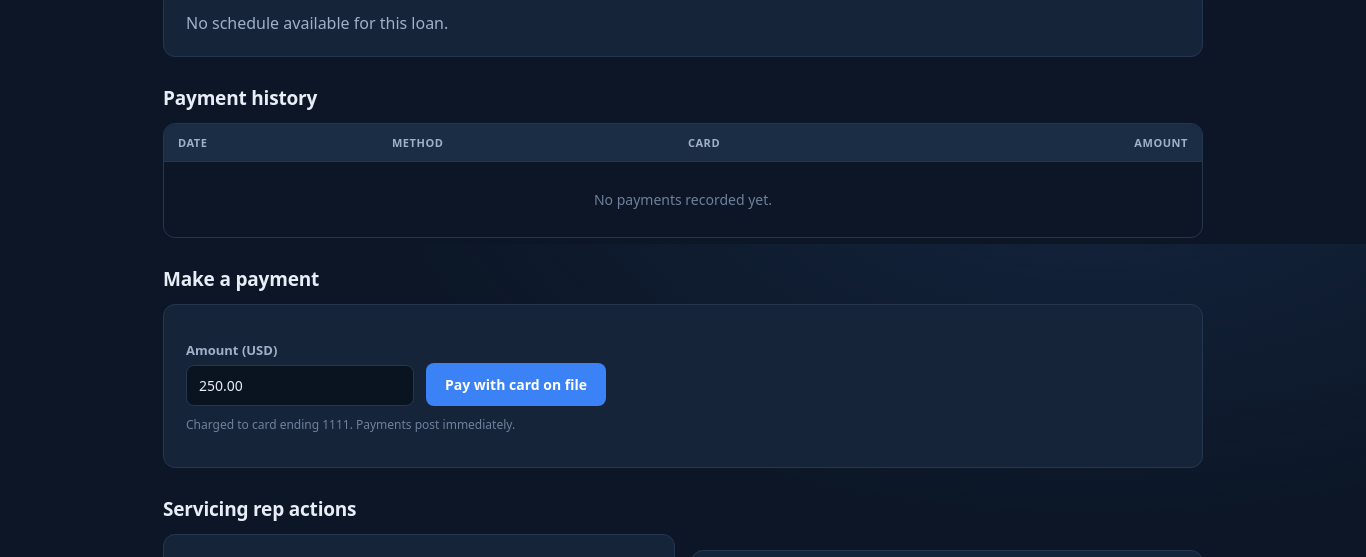
Test: loan detail — payment idempotency (D19) › retries with the exact same Idempotency-Key and body, not a fresh one
The image size is (1366, 557).
(page scrolled)
What coordinates should you click on to do the following:
click the button "Pay with card on file"
I would click on:
 (516, 384)
Its box is [426,362,606,406].
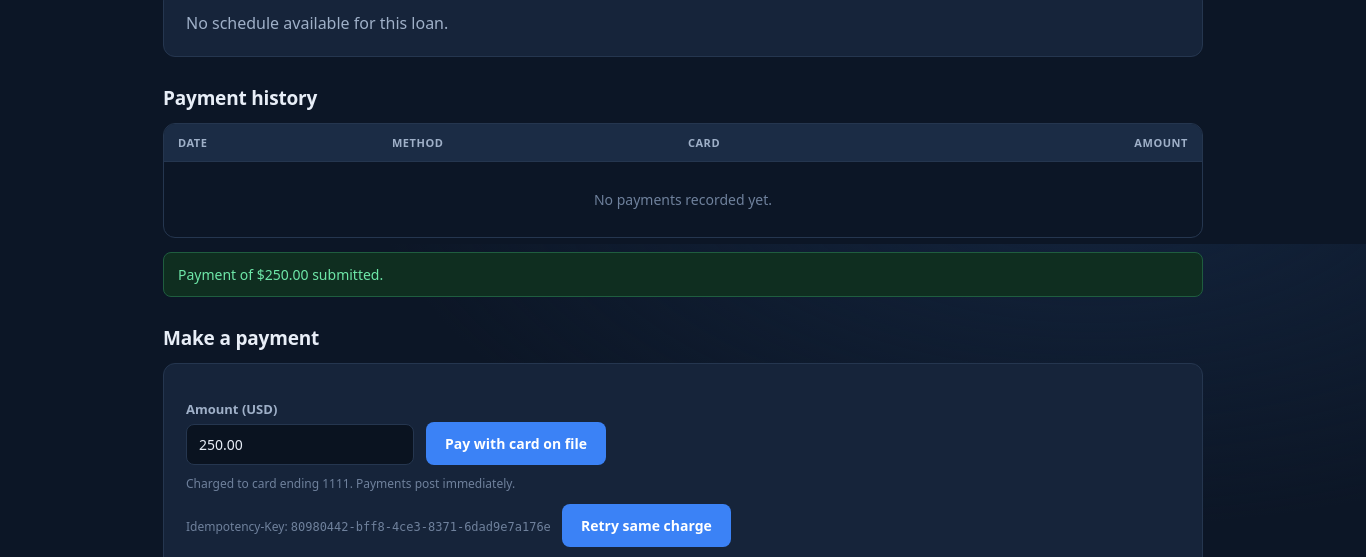
Result: the text "Payment of $250.00 submitted." is shown at [163,252,1203,296]
What coordinates should you click on to do the following:
click the button "Retry same charge"
I would click on:
 (646, 525)
Its box is [562,504,731,546].
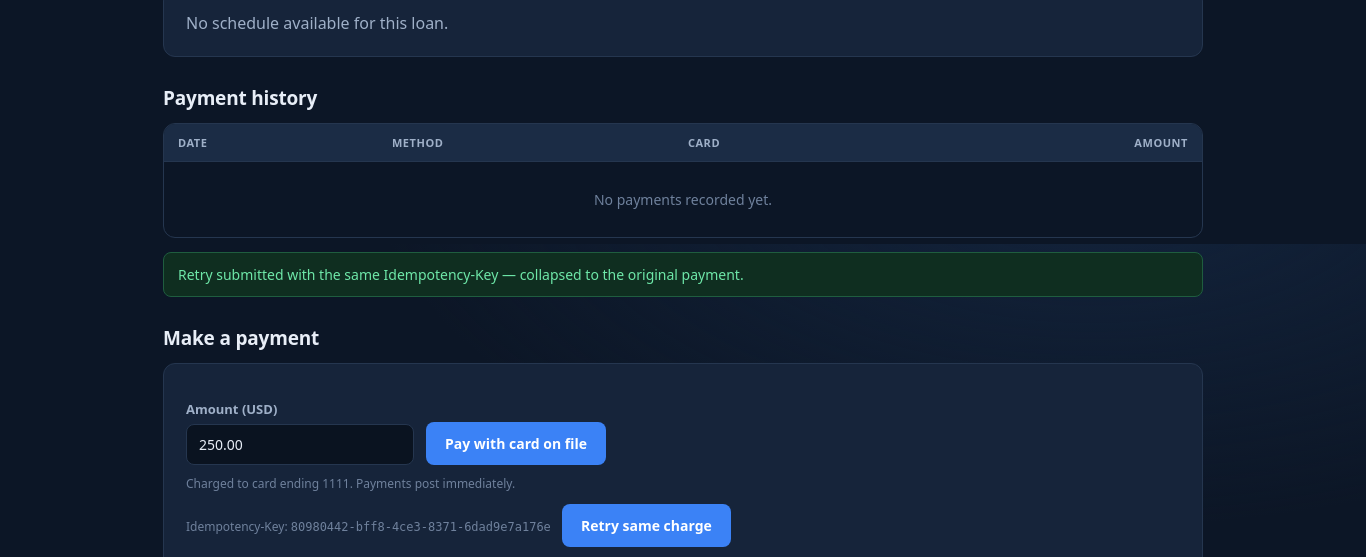
Result: the text "collapsed to the original payment" is shown at [178,264,744,284]
